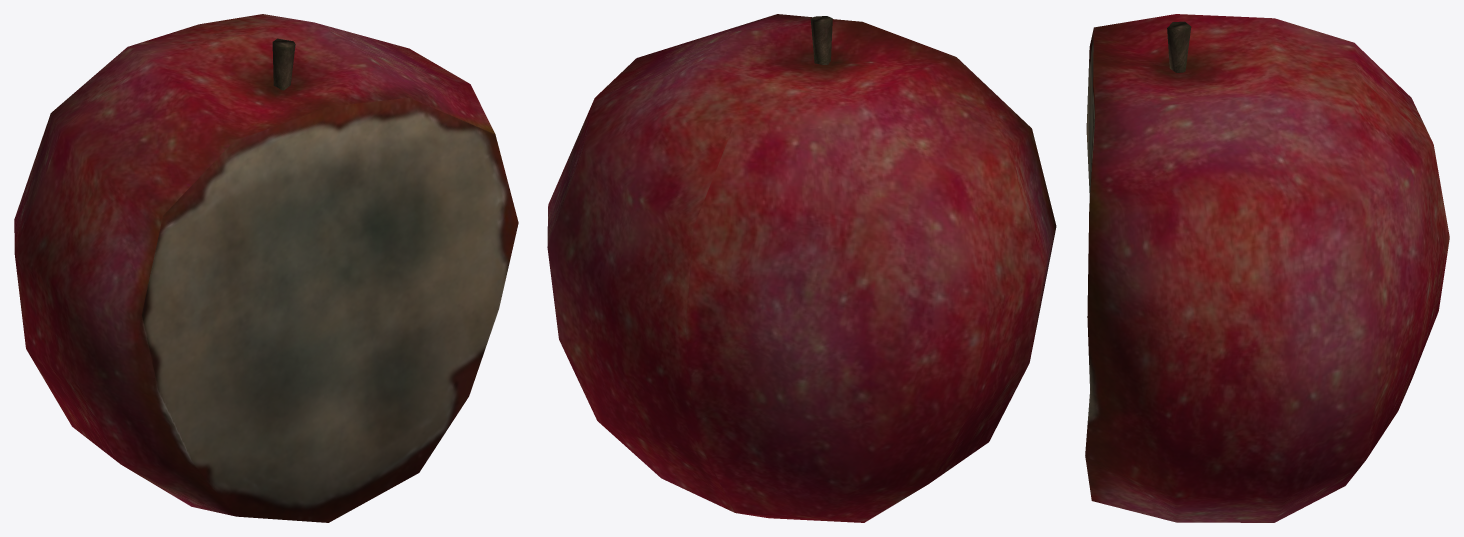
The model's file is SM_Apple.fbx.
3 views of the same model, side by side, from view 1: azimuth 30°, elevation 25°; view 2: azimuth 150°, elevation 25°; view 3: azimuth 270°, elevation 25° (orthographic).
Parts seen in each view (by area): view 1: SM_Apple; view 2: SM_Apple; view 3: SM_Apple.
Boxes of the visible parts, x1,y1,x2,y2 form: SM_Apple: (14,14,518,522); SM_Apple: (547,14,1056,522); SM_Apple: (1085,14,1449,522).
Size of the model in its own units: 12.48 by 12.42 by 8.8.
1 material, 1 textured.
